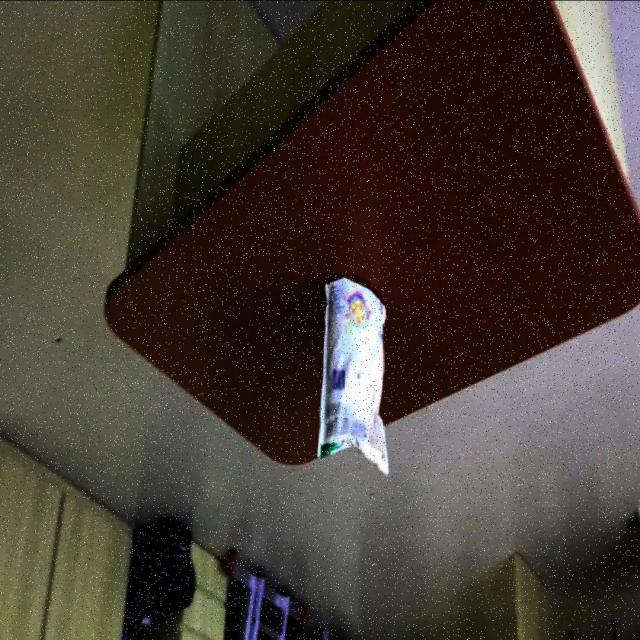CornFlakes: (102, 0, 640, 471), (316, 277, 390, 477)
